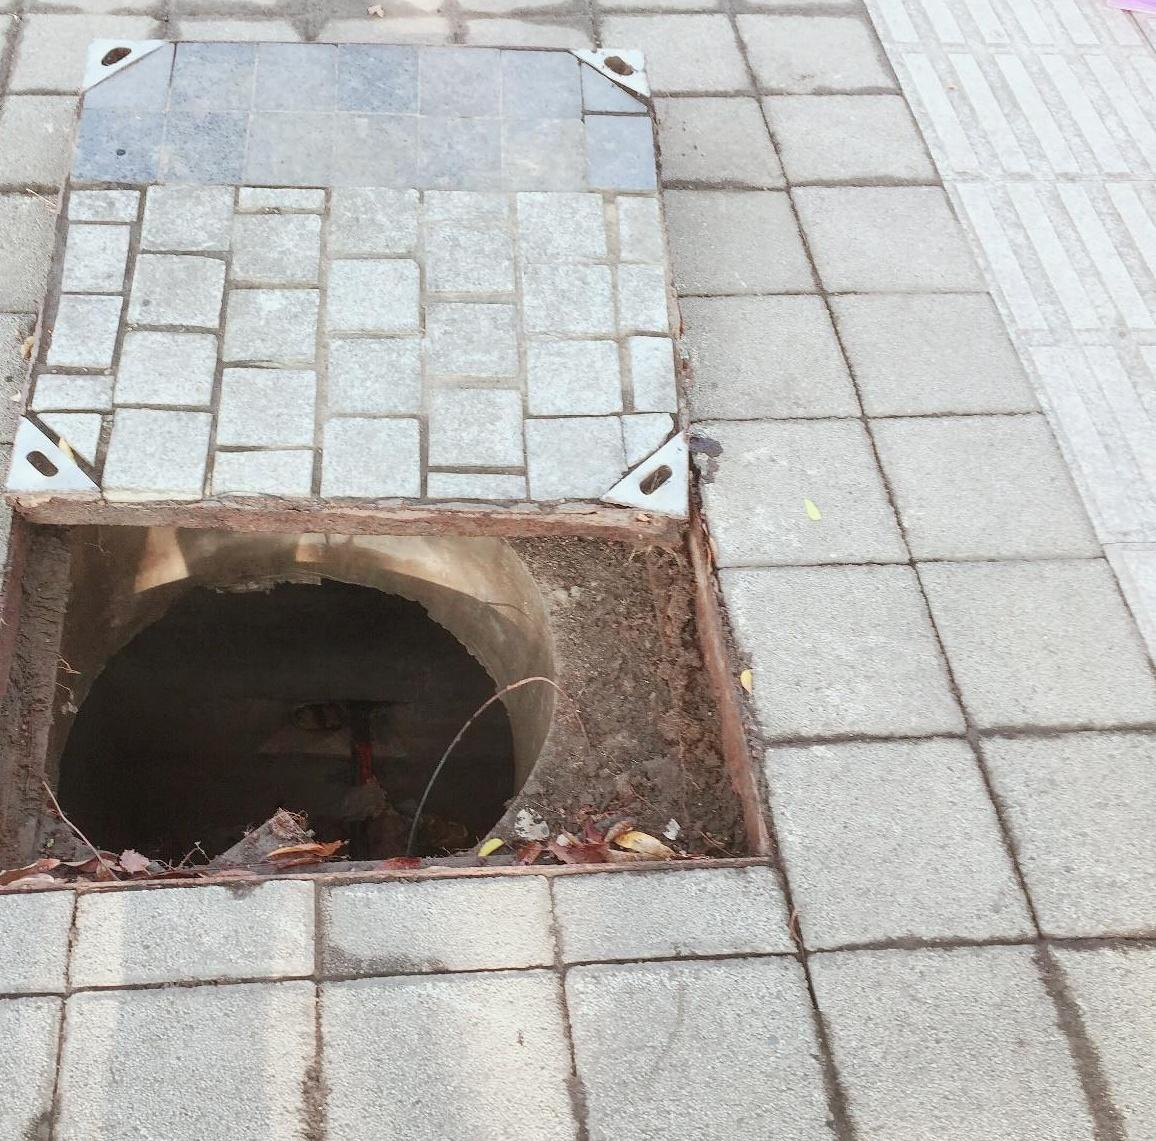wellcover: (8, 15, 790, 916)
